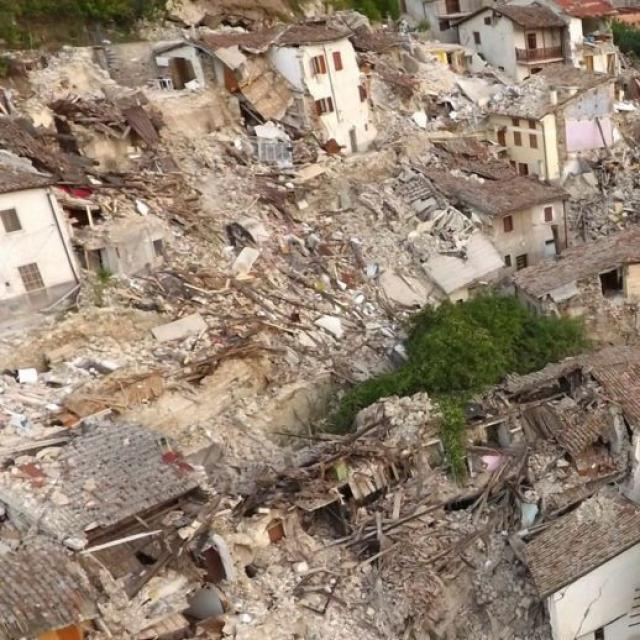collapsed_building: (258, 363, 582, 639), (105, 250, 363, 433), (33, 42, 231, 277), (296, 159, 464, 308), (170, 25, 302, 175), (341, 14, 489, 137)
